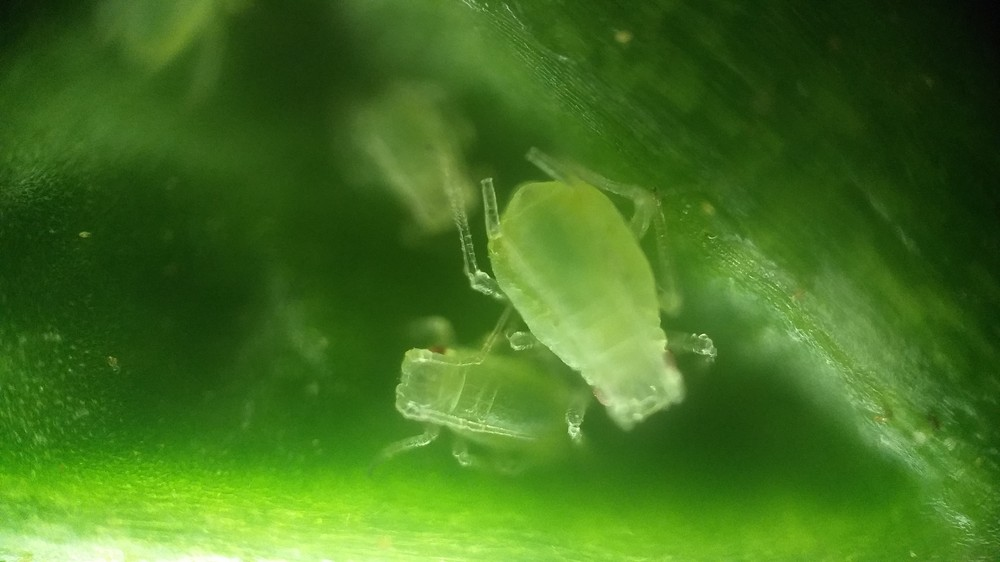Pulgon: (448, 150, 756, 440), (361, 293, 613, 483)
